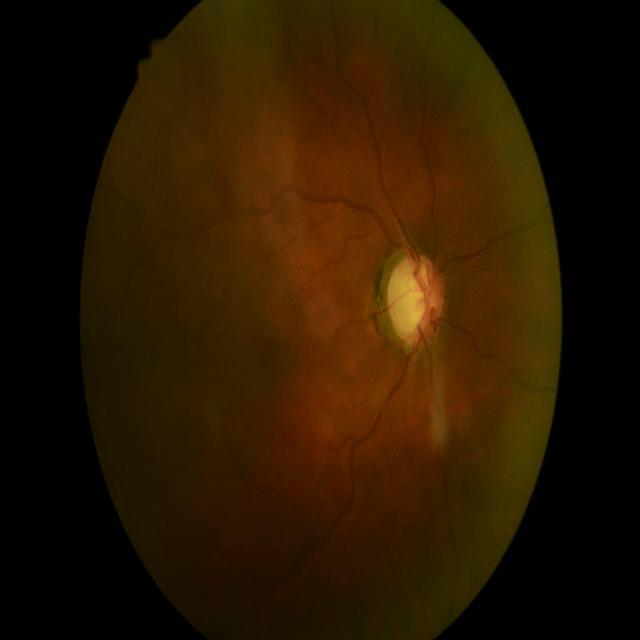cup: (392, 266, 434, 336)
disk: (387, 254, 443, 345)
